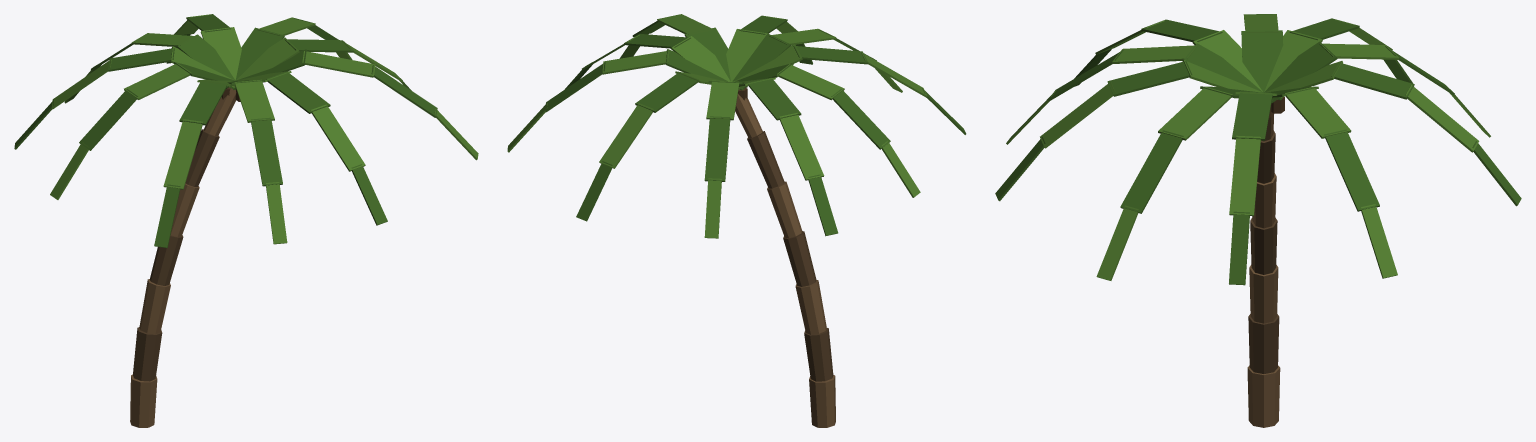
Rendered from palm.glb.
The picture shows the model from 3 angles, left to right: view 1: azimuth 30°, elevation 25°; view 2: azimuth 150°, elevation 25°; view 3: azimuth 270°, elevation 25°; orthographic projection. The views are drawn at different scales.
Visible parts, largest first — view 1: palm; view 2: palm; view 3: palm.
Boxes of the visible parts, box(x1,y1,x2,y2) form: palm: box(14, 14, 478, 427); palm: box(507, 14, 966, 427); palm: box(995, 14, 1521, 427).
Bounding box in the file's own units: 6.82 × 6.08 × 7.
